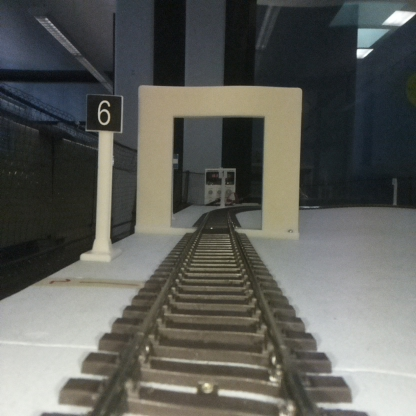black-info-6: (86, 95, 122, 259)
